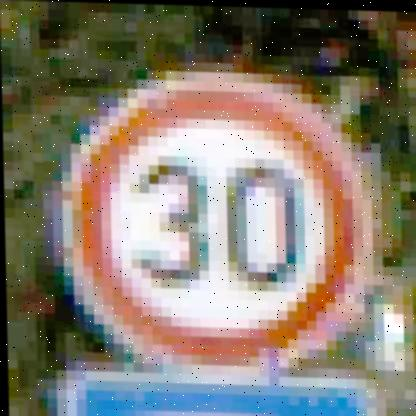Speed Limit -30-: (54, 68, 376, 379)
